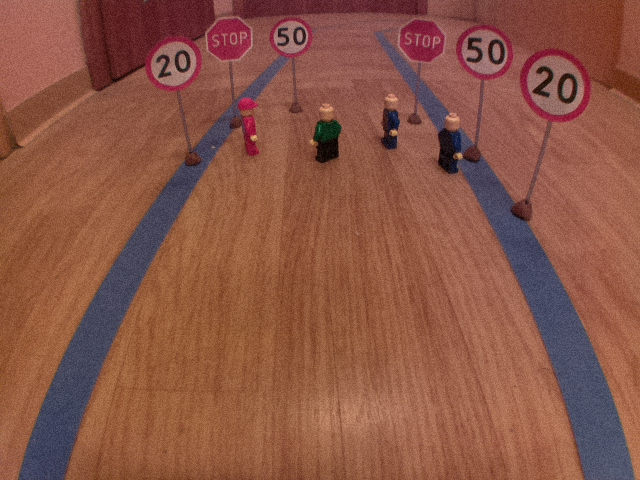LEGO_person: (309, 97, 344, 166), (436, 110, 465, 174), (235, 94, 263, 158), (378, 89, 403, 152)
ogr_20: (517, 46, 595, 124), (142, 34, 204, 92)
ogr_50: (454, 24, 515, 82), (269, 15, 314, 60)
stop: (397, 17, 448, 67), (202, 14, 254, 63)
